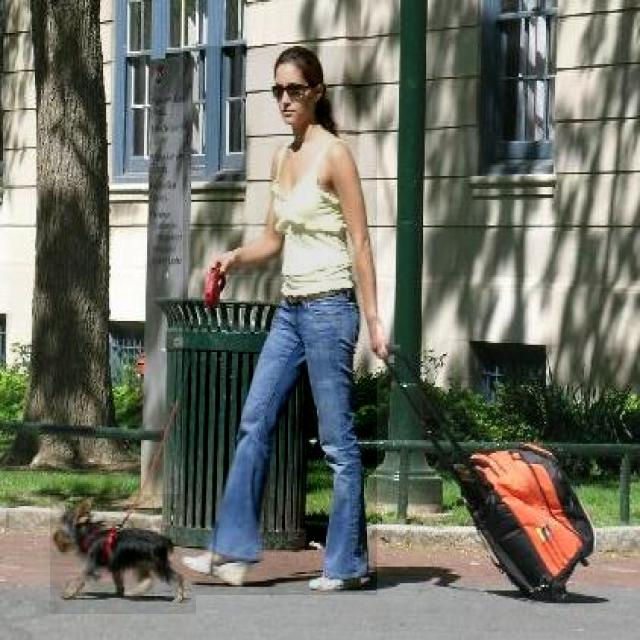with scooter: (183, 46, 377, 595), (50, 494, 196, 614)
